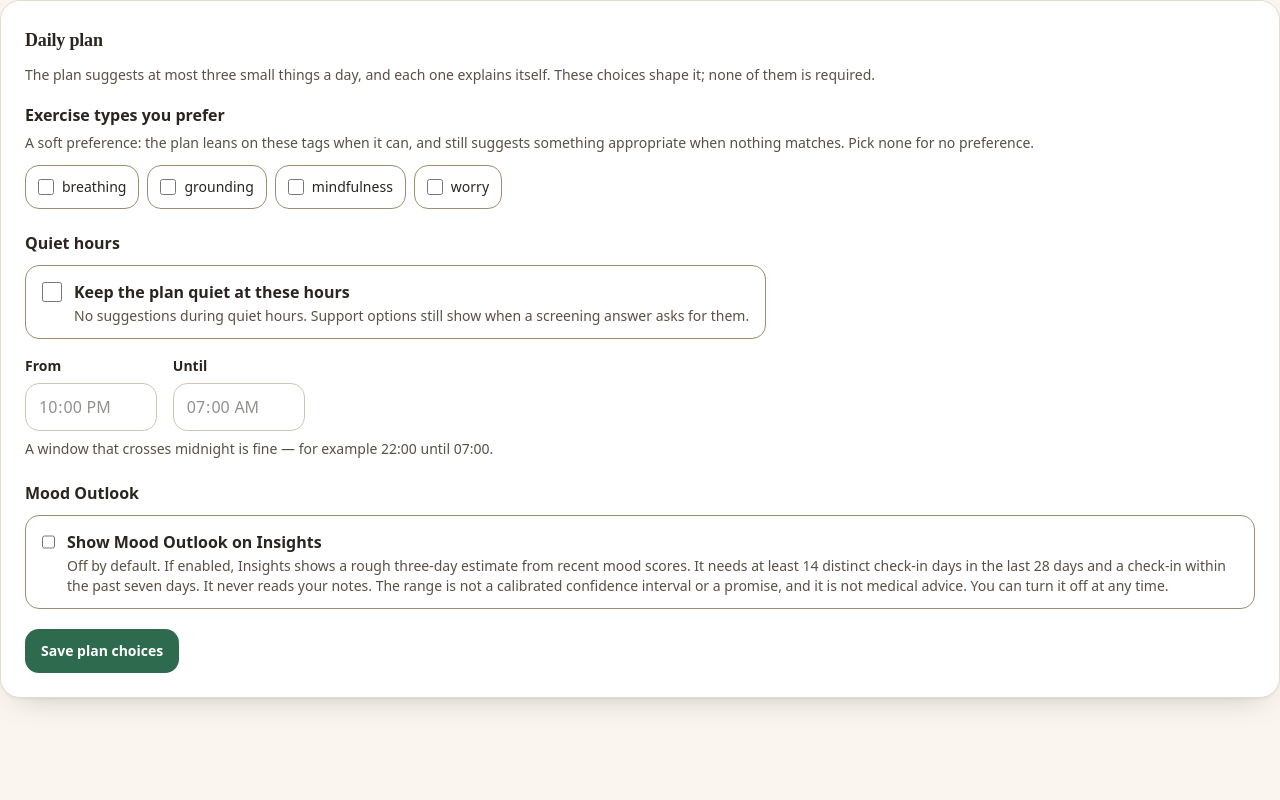
it: PlanSettingsSection › keeps Mood Outlook off by default and saves only after explicit opt-in
Click the switch labelled "Show Mood Outlook on Insights": click(48, 542) [42,532,55,552]
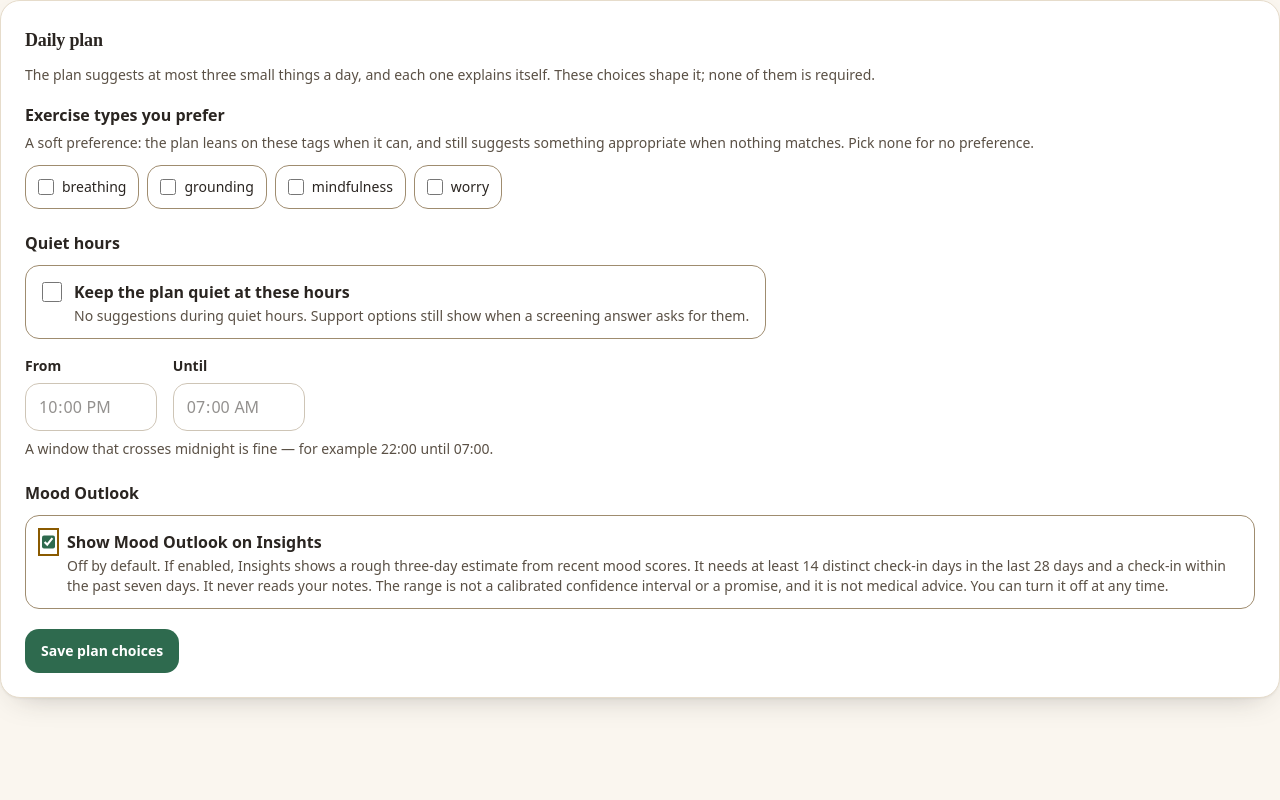
Click the button "Save plan choices": click(102, 650) [25,628,179,672]
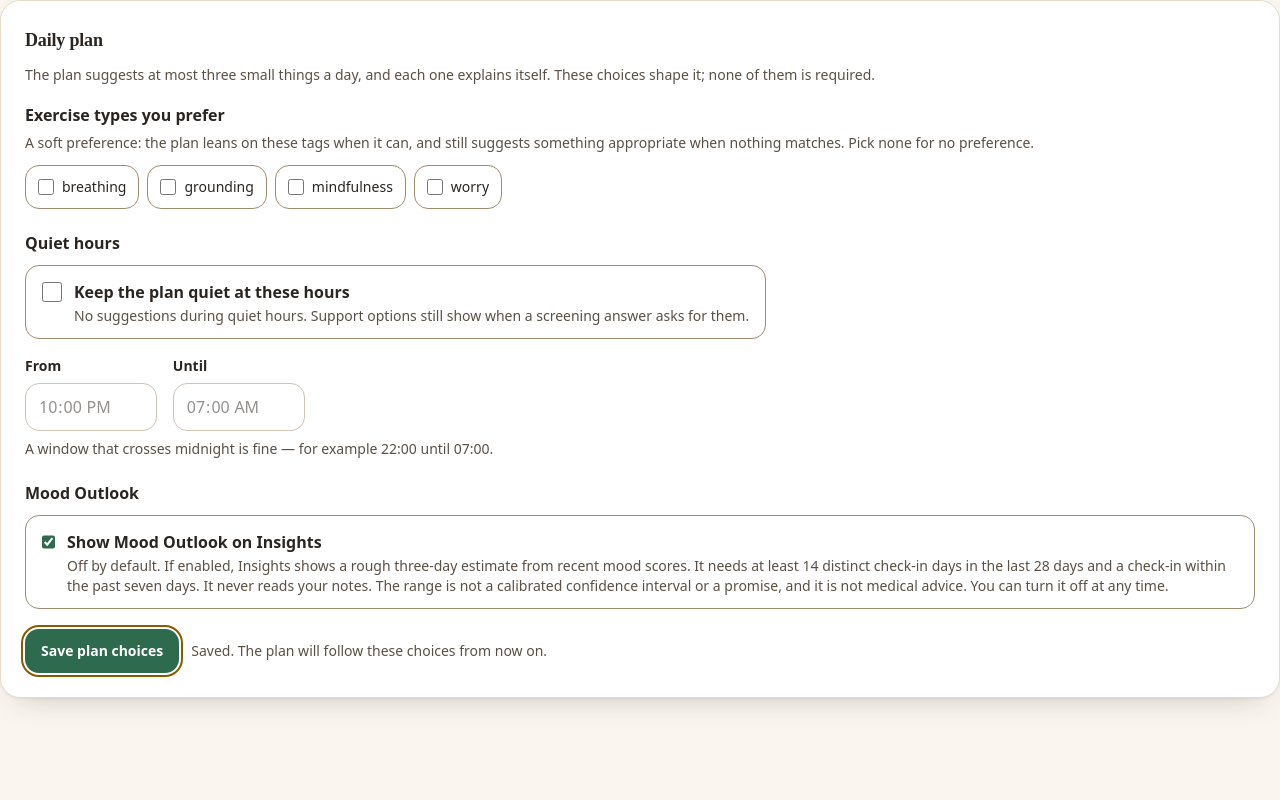
Expected: the message shows "Saved", [191,640,547,660]
